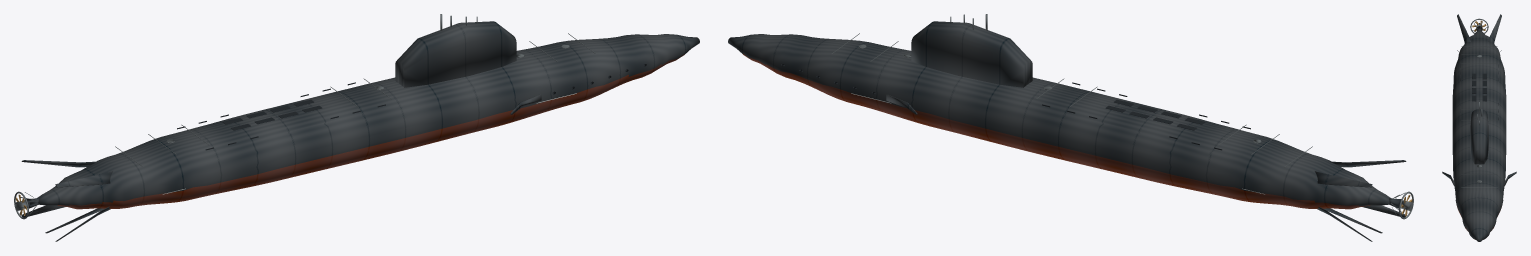
Rendered from RU_SSN_Yasen_LOD2.fbx.
The picture shows the model from 3 angles, left to right: view 1: azimuth 30°, elevation 25°; view 2: azimuth 150°, elevation 25°; view 3: azimuth 270°, elevation 25°; orthographic projection. The views are drawn at different scales.
Visible parts, largest first — view 1: RU_SSN_Yasen_LOD2; view 2: RU_SSN_Yasen_LOD2; view 3: RU_SSN_Yasen_LOD2.
Part boxes in pixels (x1=…): RU_SSN_Yasen_LOD2: x1=14, y1=14, x2=699, y2=241; RU_SSN_Yasen_LOD2: x1=728, y1=14, x2=1413, y2=241; RU_SSN_Yasen_LOD2: x1=1442, y1=14, x2=1516, y2=241.
Bounding box in the file's own units: 123 × 17.99 × 21.15.
